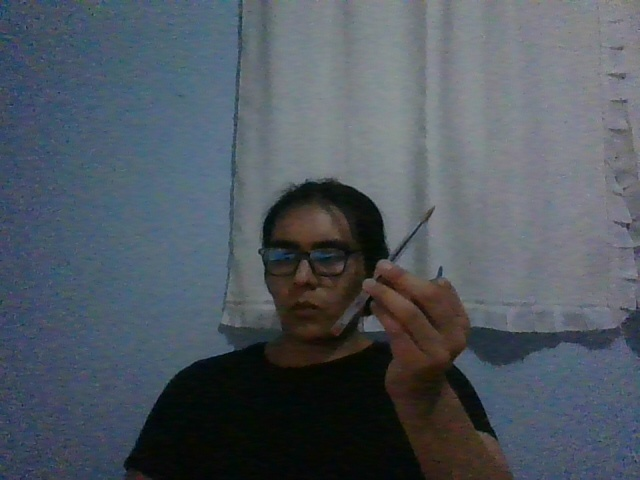pluma: (328, 204, 435, 339)
